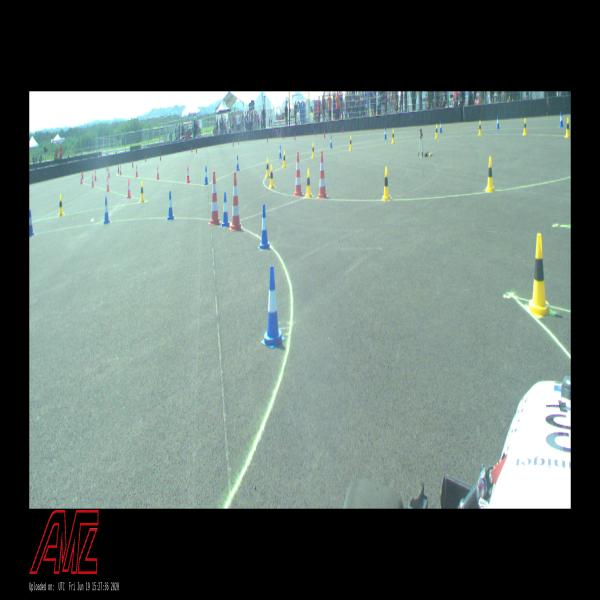blue_cone: (261, 265, 285, 350), (260, 204, 270, 249), (222, 192, 230, 228), (167, 190, 174, 221), (104, 197, 110, 224), (30, 210, 34, 238), (204, 166, 209, 185), (559, 111, 564, 128), (236, 154, 240, 172), (278, 145, 283, 159), (496, 115, 500, 130), (329, 134, 333, 149), (439, 120, 443, 133), (384, 127, 387, 140)
large_orange_cone: (229, 172, 243, 232), (208, 171, 222, 227), (317, 150, 329, 200), (293, 151, 304, 197)
orange_cone: (127, 179, 131, 198), (186, 165, 190, 183), (106, 176, 110, 192), (156, 165, 160, 180), (91, 174, 94, 187), (135, 164, 138, 177), (94, 169, 97, 181), (80, 172, 83, 184), (120, 164, 122, 176), (108, 167, 110, 178)
yellow_cone: (526, 234, 554, 318), (486, 156, 494, 192), (382, 166, 390, 200), (305, 168, 312, 198), (58, 194, 64, 216), (564, 118, 570, 138), (269, 164, 274, 188), (265, 157, 270, 179), (140, 181, 145, 202), (282, 150, 286, 168), (523, 117, 527, 135), (478, 119, 482, 136), (349, 134, 353, 151), (391, 129, 395, 144), (312, 142, 315, 158), (435, 123, 438, 139)
